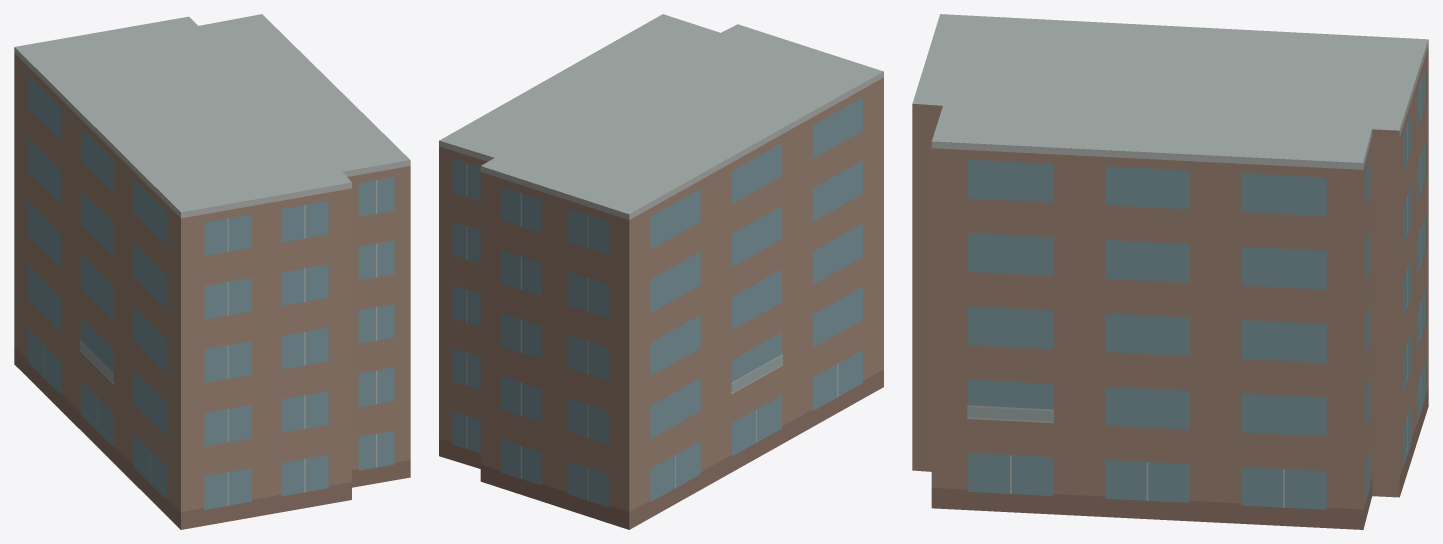
The model's file is survey-upis-32899335.glb.
The picture shows the model from 3 angles, left to right: view 1: azimuth 30°, elevation 25°; view 2: azimuth 150°, elevation 25°; view 3: azimuth 270°, elevation 25°; orthographic projection. The views are drawn at different scales.
Parts seen in each view (by area): view 1: survey-upis-32899335.tmp; view 2: survey-upis-32899335.tmp; view 3: survey-upis-32899335.tmp.
Part boxes in pixels (x1=…): survey-upis-32899335.tmp: x1=14, y1=14, x2=410, y2=529; survey-upis-32899335.tmp: x1=439, y1=14, x2=883, y2=529; survey-upis-32899335.tmp: x1=912, y1=14, x2=1428, y2=529.
Bounding box in the file's own units: 11.42 × 13.1 × 16.72.
